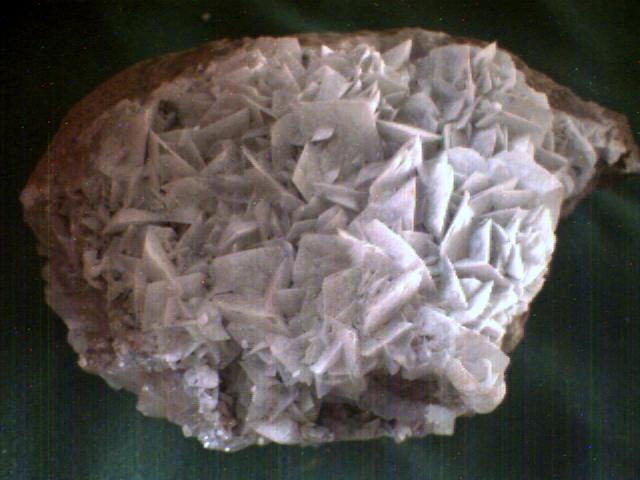calcite: (20, 29, 640, 450)
